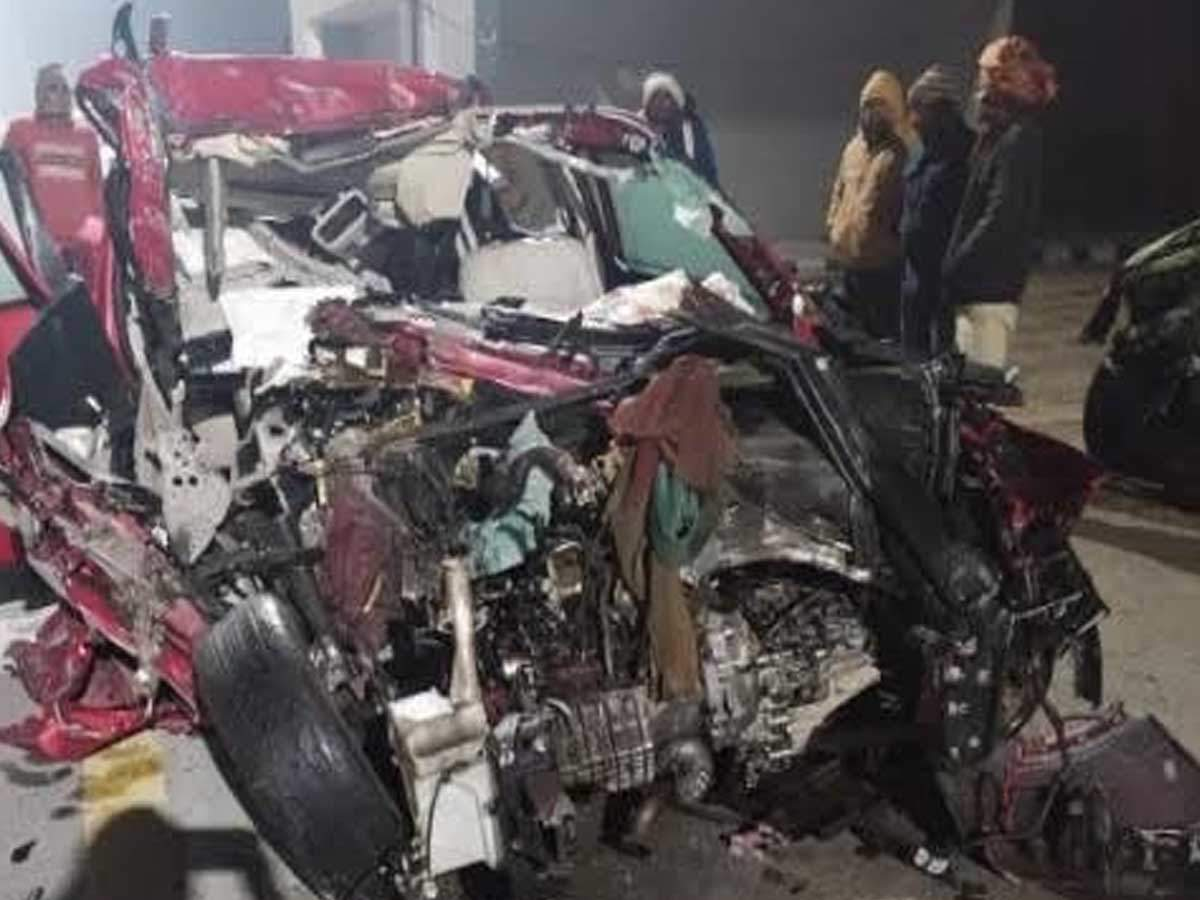accident: (38, 87, 1040, 900)
